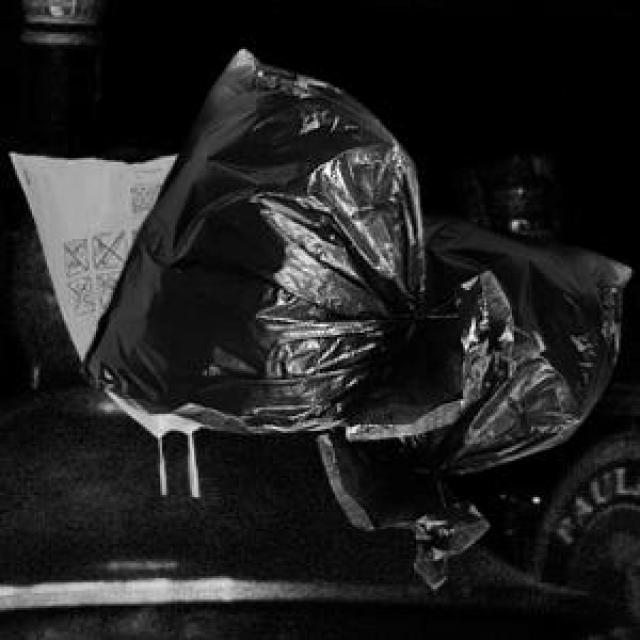miscellaneous trash: (77, 45, 540, 435), (314, 207, 627, 585)
